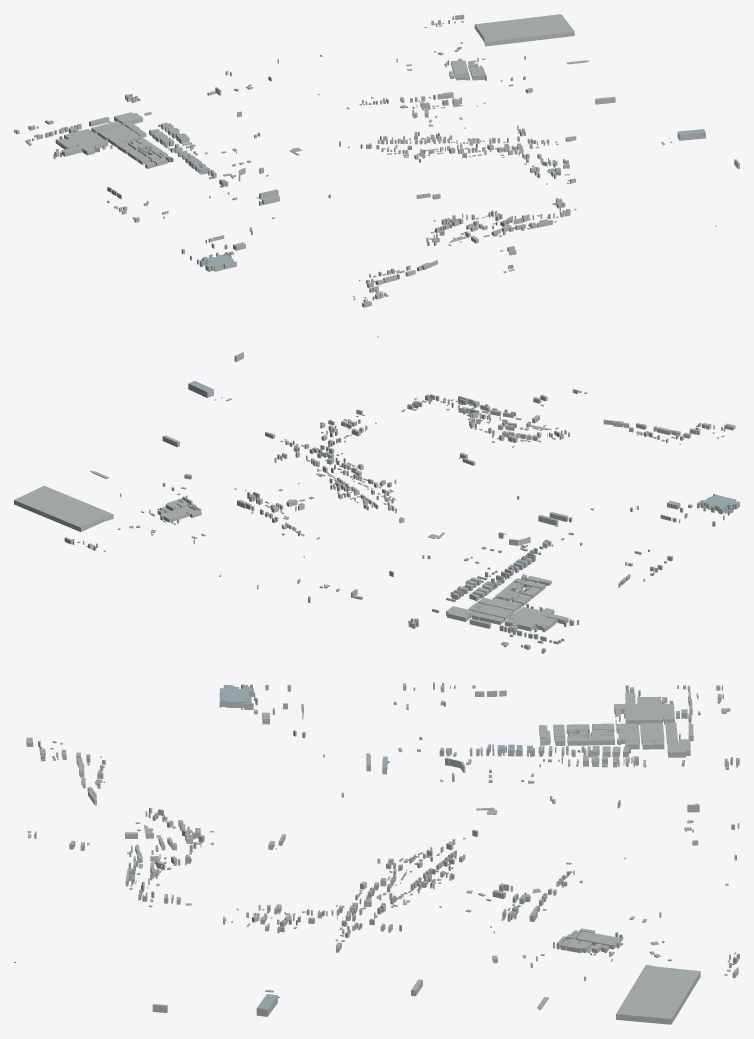
File: far.glb
3 views of the same model, one above another, from view 1: azimuth 30°, elevation 25°; view 2: azimuth 150°, elevation 25°; view 3: azimuth 270°, elevation 25° (orthographic). The views are drawn at different scales.
Size of the model in its own units: 2178 by 22.4 by 1979.
